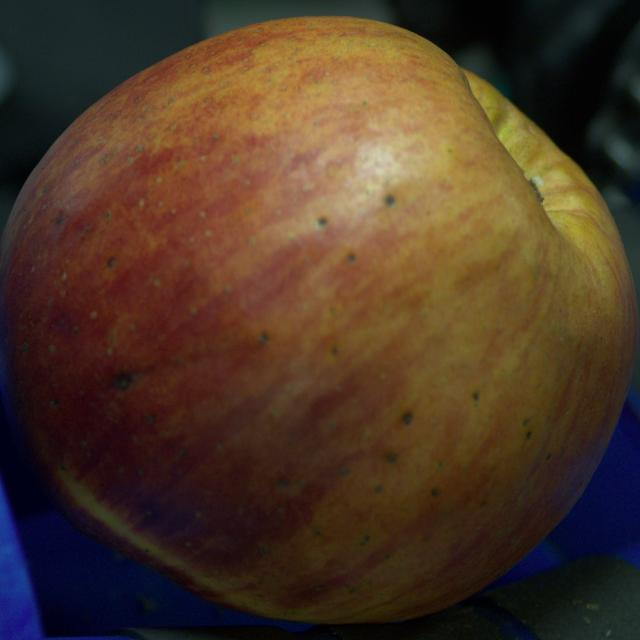apple: (0, 17, 638, 623)
pest: (113, 374, 131, 389), (402, 411, 413, 424), (258, 332, 269, 344), (278, 479, 289, 488), (386, 195, 394, 205), (318, 218, 327, 226), (388, 452, 396, 461), (108, 258, 115, 268), (473, 391, 479, 401), (348, 254, 355, 261), (526, 432, 532, 439)
